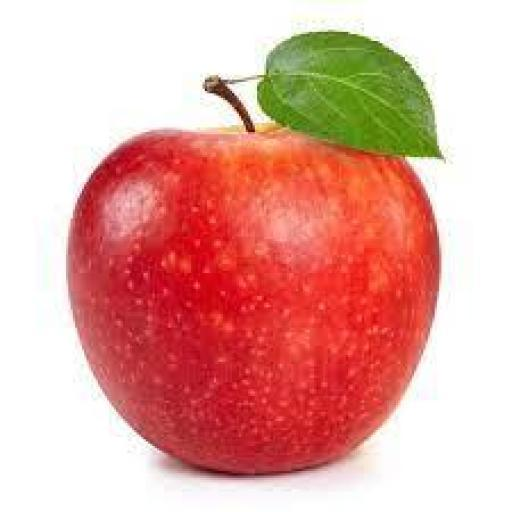apple: (69, 130, 439, 473)
